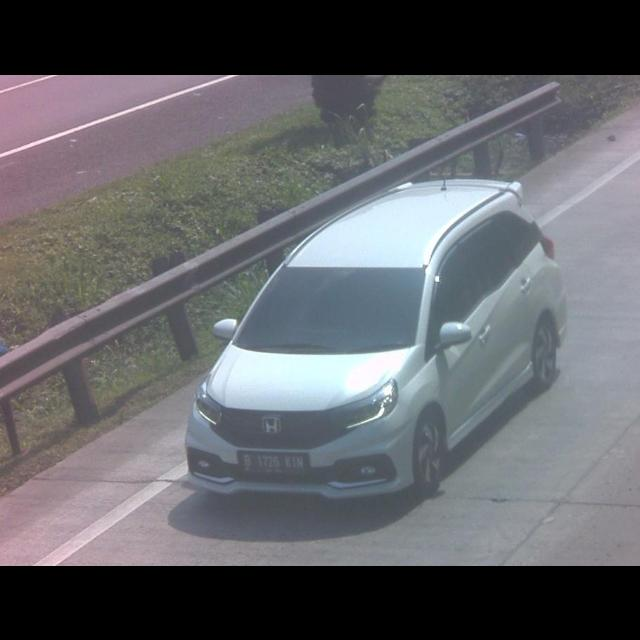plate: (236, 448, 310, 478)
